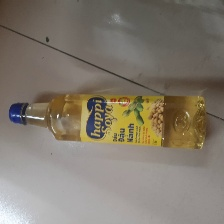Happy Soya: (7, 91, 209, 151)
